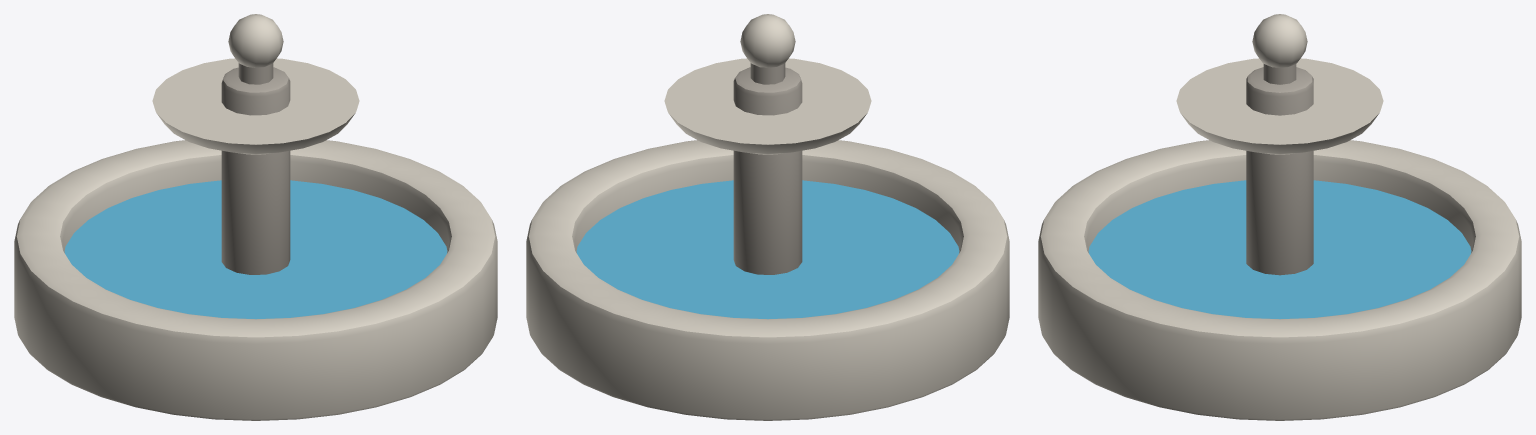
The model's file is statue_fountain.glb.
3 views of the same model, side by side, from view 1: azimuth 30°, elevation 25°; view 2: azimuth 150°, elevation 25°; view 3: azimuth 270°, elevation 25° (orthographic).
Visible parts, largest first — view 1: statue_fountain; view 2: statue_fountain; view 3: statue_fountain.
Boxes of the visible parts, x1=… form: statue_fountain: x1=14, y1=14, x2=497, y2=420; statue_fountain: x1=526, y1=14, x2=1009, y2=420; statue_fountain: x1=1038, y1=14, x2=1521, y2=420.
Size of the model in its own units: 2.8 by 1.94 by 2.8.
